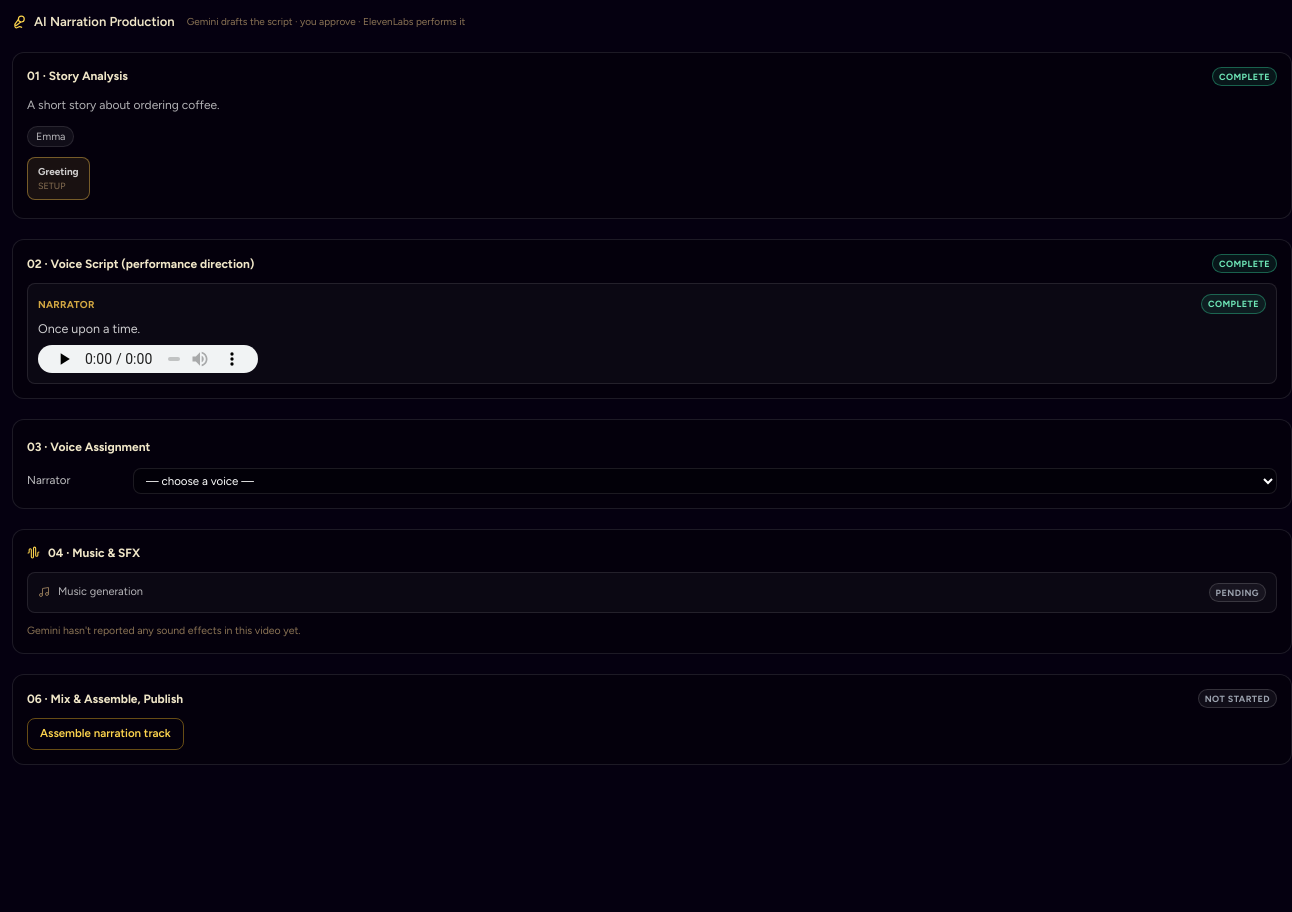
Test: Assemble becomes enabled and clicking it calls assembleNarration once every line is complete
Click the button with test id "voice-assemble-button" at {"x": 105, "y": 734}, box [27,718,184,750]
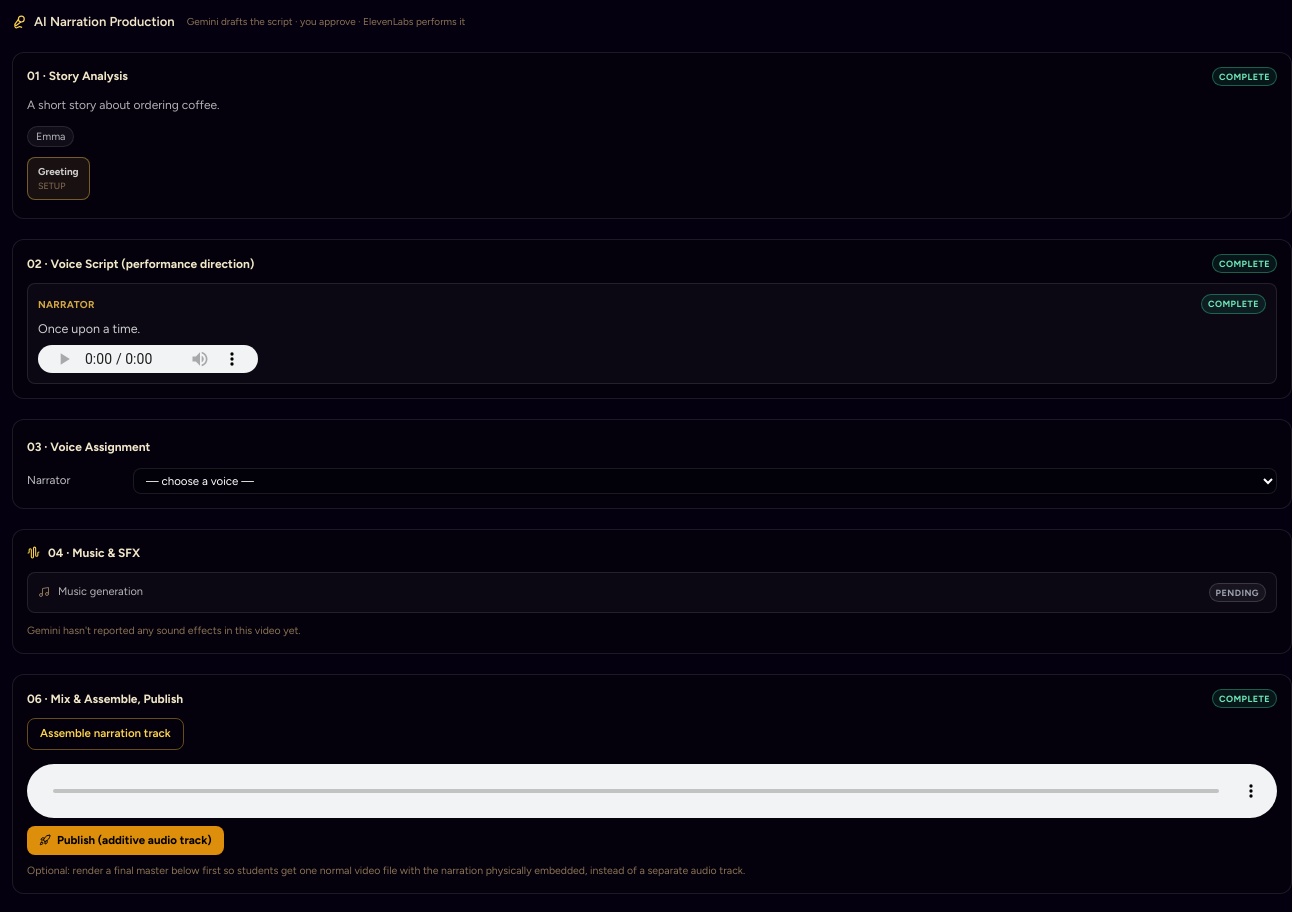
Now the element with test id "voice-assembled-preview" is shown, box [27,764,1277,818]
Now the button with test id "voice-publish-button" is shown, box [27,826,224,855]
